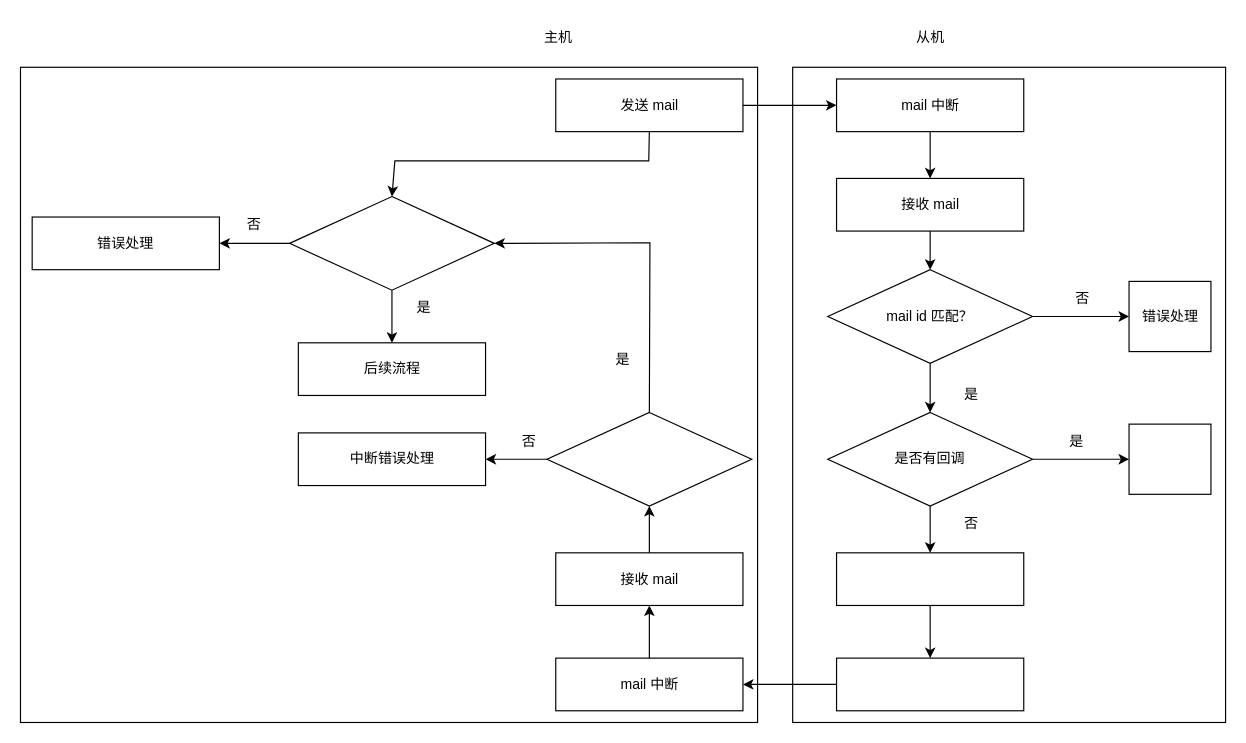
Some shapes in this 1246 by 743 pixel diagram are drawn without their labels. The shapes that lost their labels are listed below. From the top down, each one's box as (x1, y1, x2, y2) in pixels, then its label:
(288, 195, 494, 290): 是否正常唤醒
(546, 411, 752, 506): 是否需要唤醒
(1128, 423, 1211, 494): 异步流程
(835, 552, 1024, 605): 调用回调，用户在回调中处理邮箱信息
(835, 657, 1024, 711): 发送回应邮件
